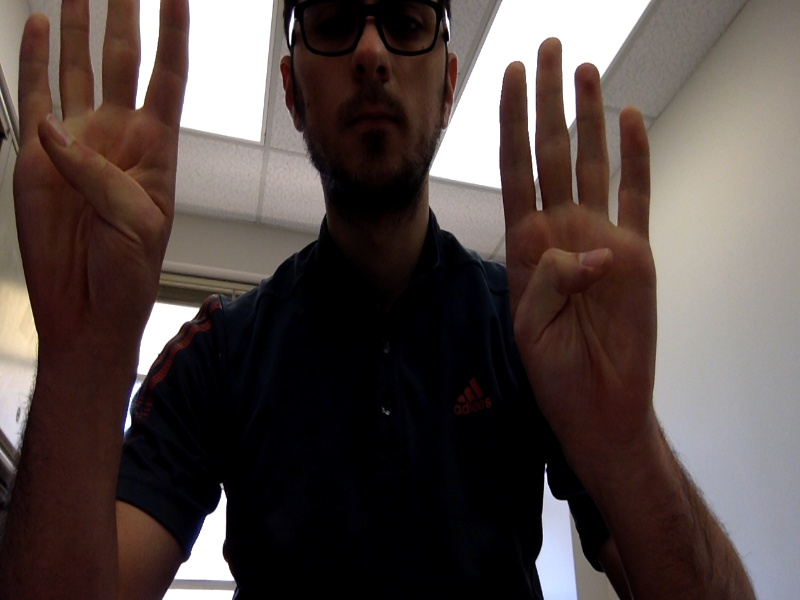4-hand: (500, 38, 657, 439), (15, 1, 189, 341)
